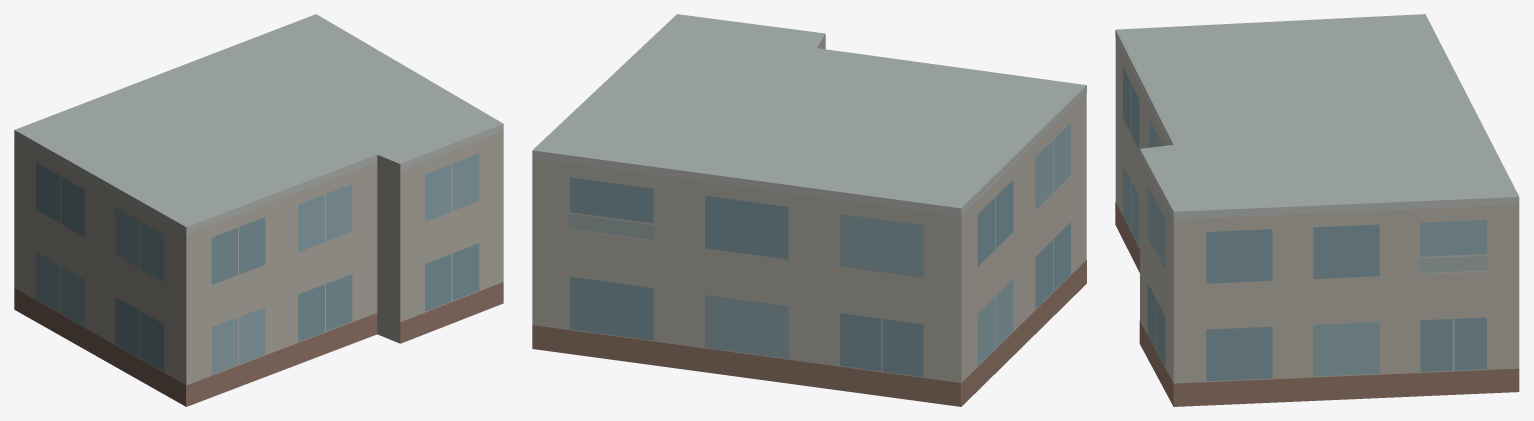
The model's file is survey-upis-32724615.glb.
The picture shows the model from 3 angles, left to right: view 1: azimuth 30°, elevation 25°; view 2: azimuth 150°, elevation 25°; view 3: azimuth 270°, elevation 25°; orthographic projection. The views are drawn at different scales.
Visible parts, largest first — view 1: survey-upis-32724615.tmp; view 2: survey-upis-32724615.tmp; view 3: survey-upis-32724615.tmp.
Boxes of the visible parts, <box> form: survey-upis-32724615.tmp: <box>14,14,503,406</box>; survey-upis-32724615.tmp: <box>532,14,1086,406</box>; survey-upis-32724615.tmp: <box>1115,14,1519,406</box>.
Size of the model in its own units: 13.27 by 6.1 by 11.46.
